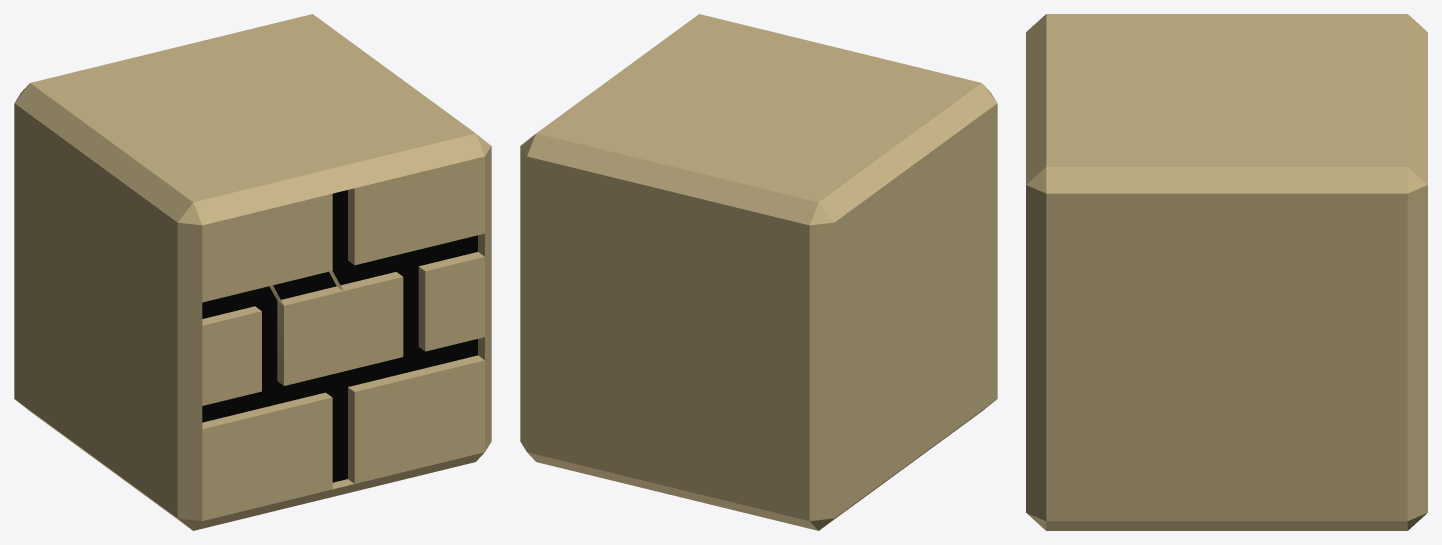
File: item.fbx
3 views of the same model, side by side, from view 1: azimuth 30°, elevation 25°; view 2: azimuth 150°, elevation 25°; view 3: azimuth 270°, elevation 25° (orthographic). The views are drawn at different scales.
Visible parts, largest first — view 1: pCube1; view 2: pCube1; view 3: pCube1.
Boxes of the visible parts, box(x1,y1,x2,y2) form: pCube1: box(14, 14, 491, 530); pCube1: box(520, 14, 997, 530); pCube1: box(1026, 14, 1427, 530).
Size of the model in its own units: 2 by 2 by 2.
